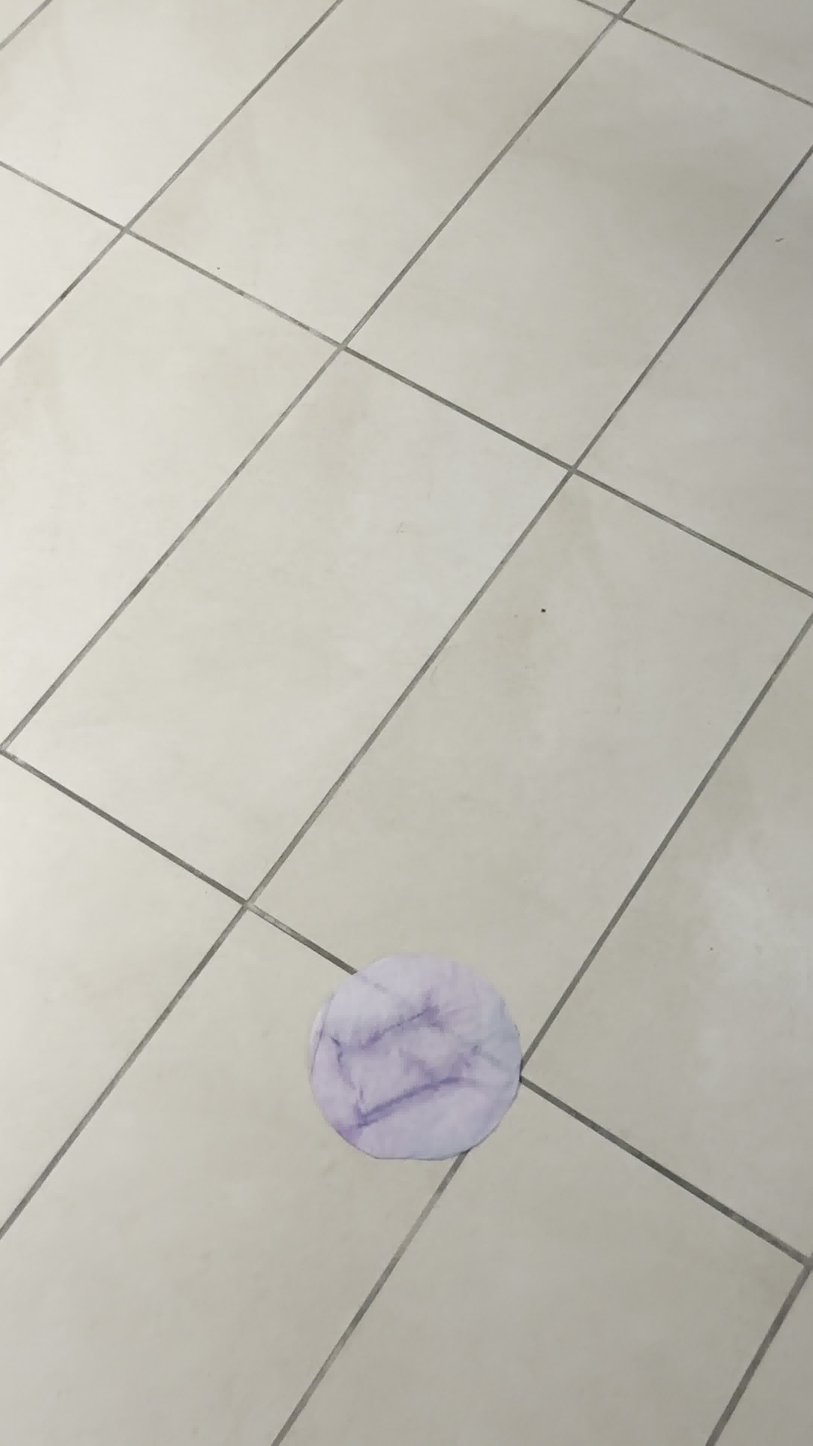Target: (304, 957, 521, 1161)
